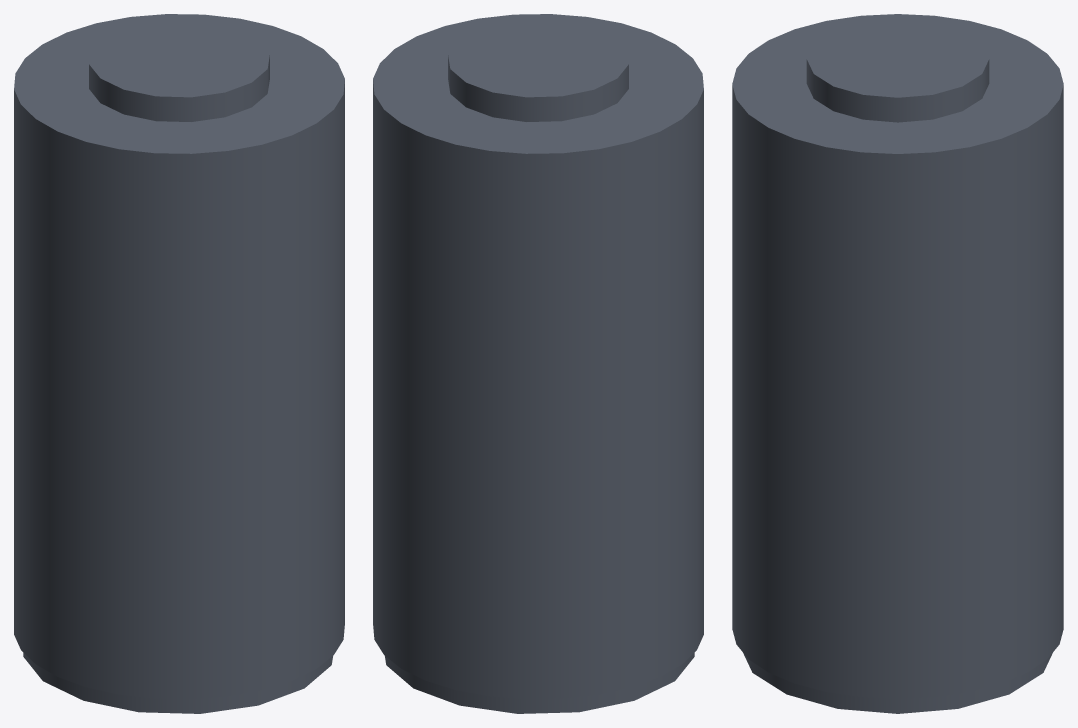
Rendered from cell_16340.glb.
3 renders of one model, left to right at view 1: azimuth 30°, elevation 25°; view 2: azimuth 150°, elevation 25°; view 3: azimuth 270°, elevation 25°, orthographic.
Bounding box in the file's own units: 16.5 × 32.3 × 16.5.
